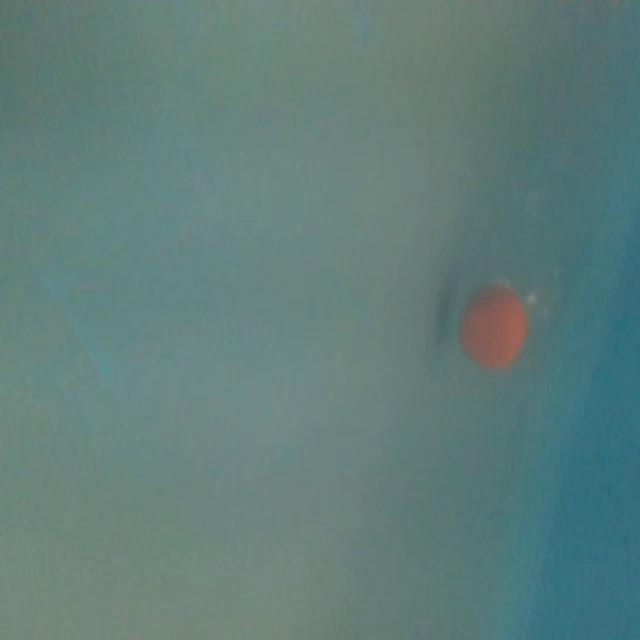plastic bottle: (456, 98, 610, 386)
